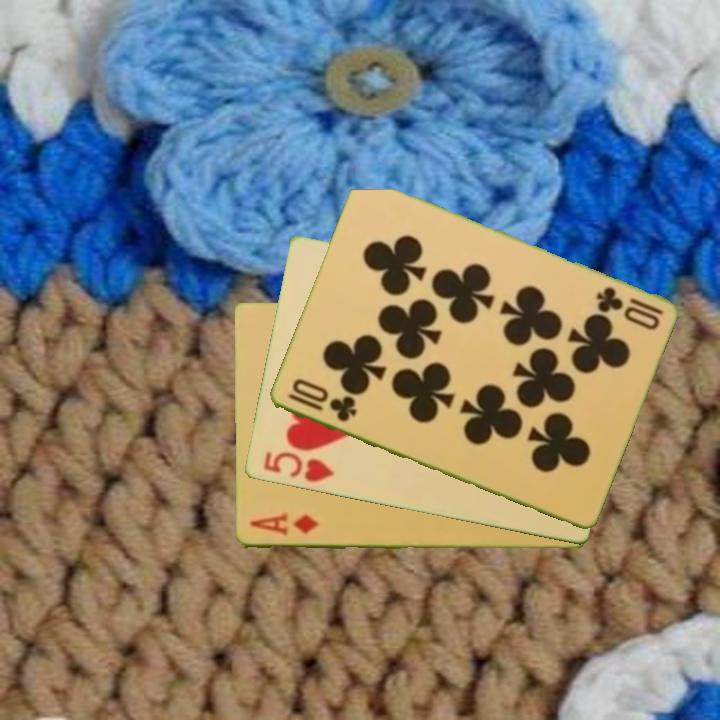10c: (283, 375, 359, 425), (591, 283, 666, 318)
5h: (259, 448, 337, 485)
Ad: (245, 511, 321, 539)
